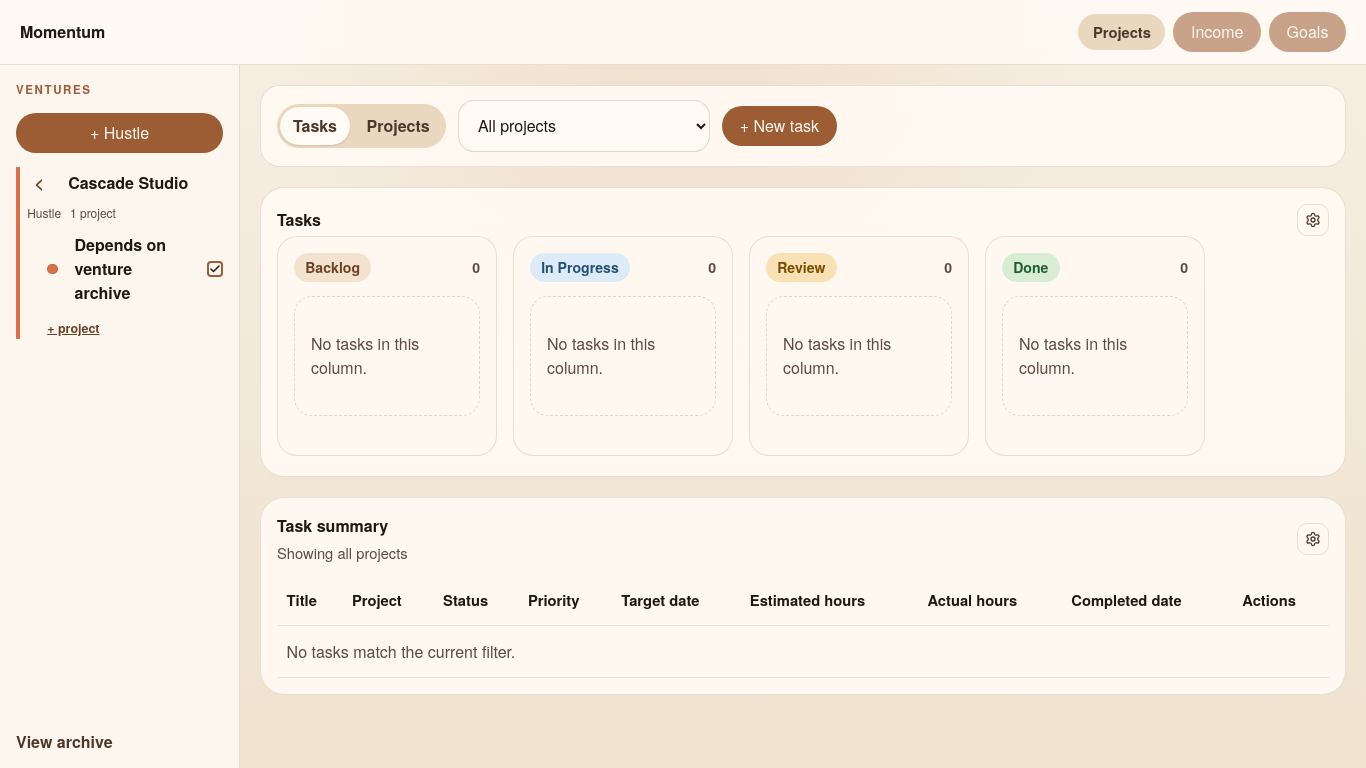
Test: Ticket 1.6-12 — cross-feature stale state after mutations › archiving a venture via sidebar hides the venture and its child projects from the active sidebar tree
The image size is (1366, 768).
expect the list item with test id "sidebar-project-proj-under-venture-shell" is shown: met, box [47,227,223,312]
Click the button "Cascade Studio" at (128, 183), box [60,167,196,199]
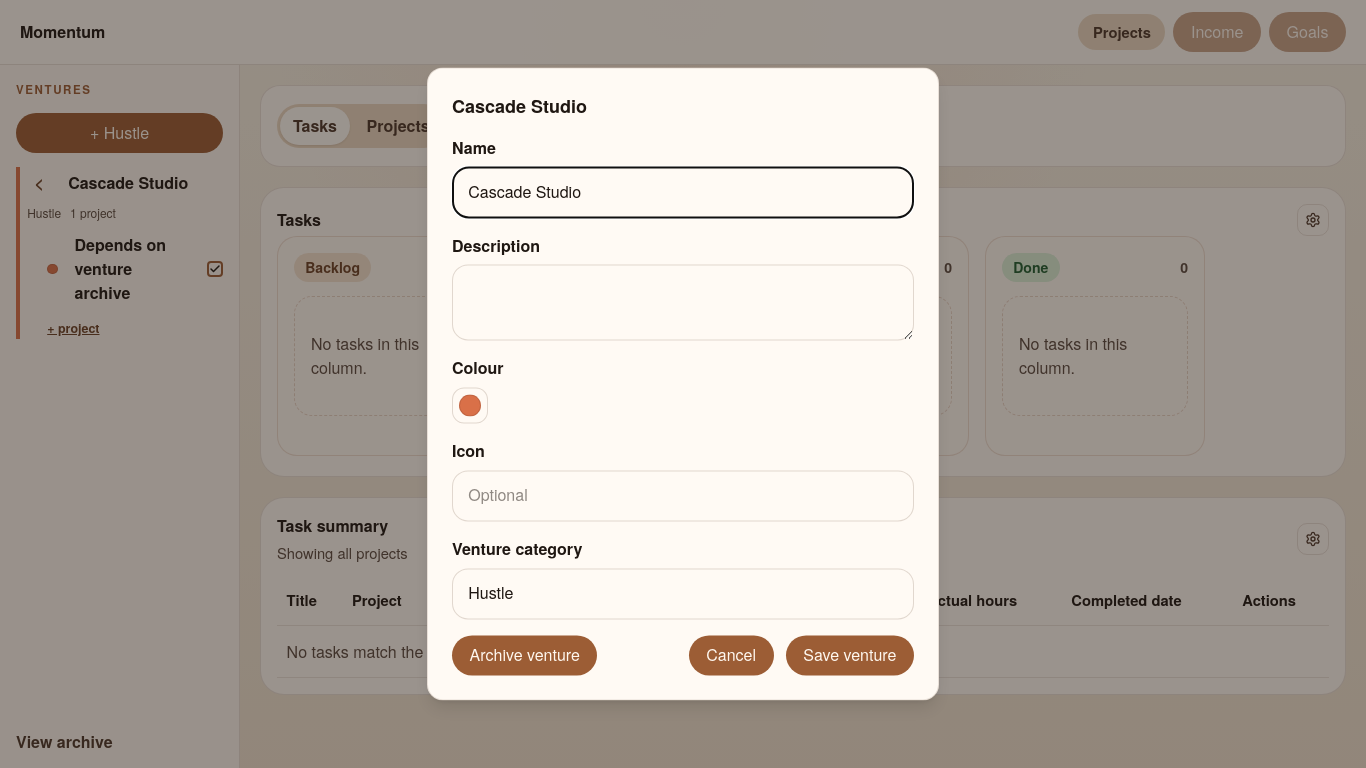
Click the button "Archive venture" at (525, 656), box [452,636,598,676]
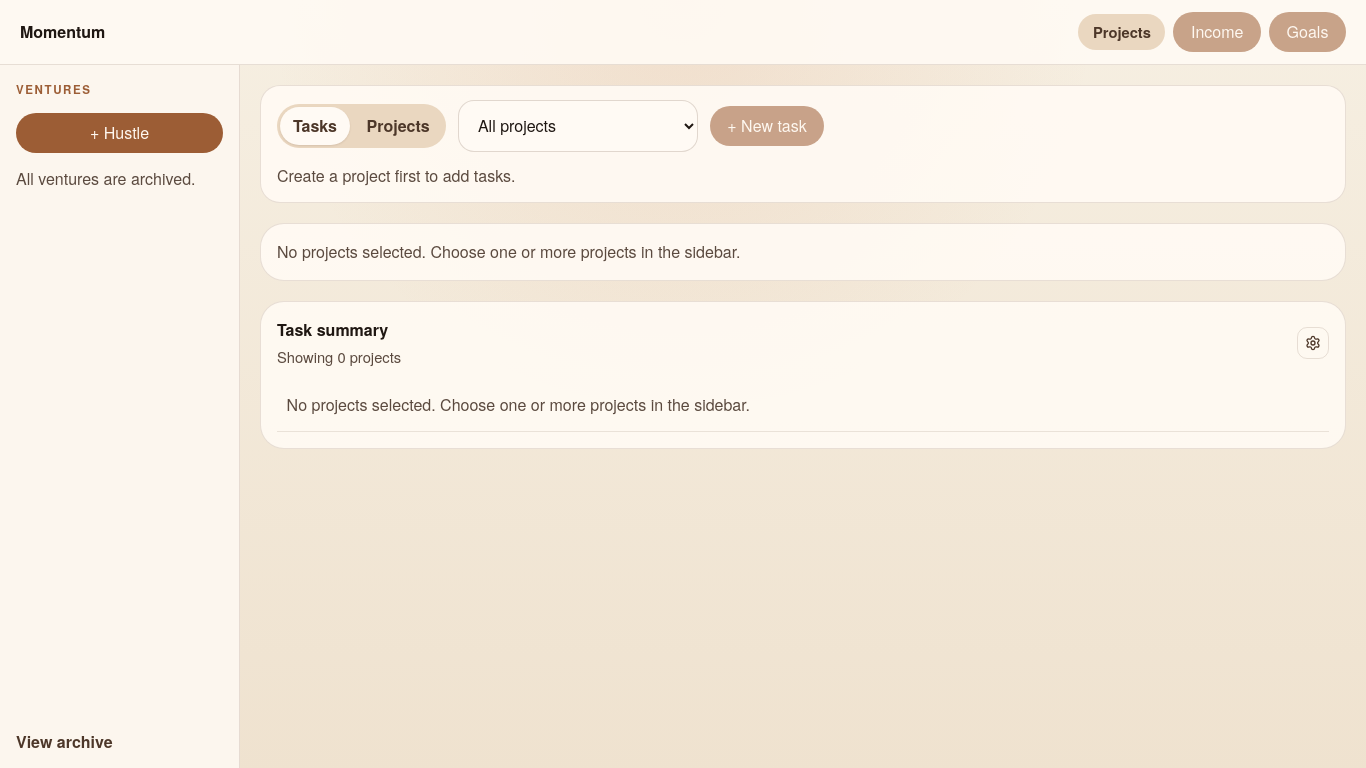
expect the list item with test id "sidebar-project-proj-under-venture-shell" is gone: met
